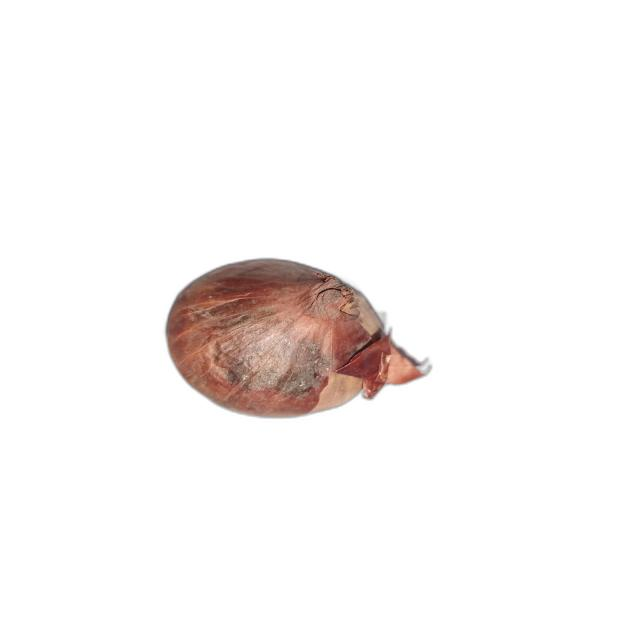onion: (165, 258, 428, 419)
